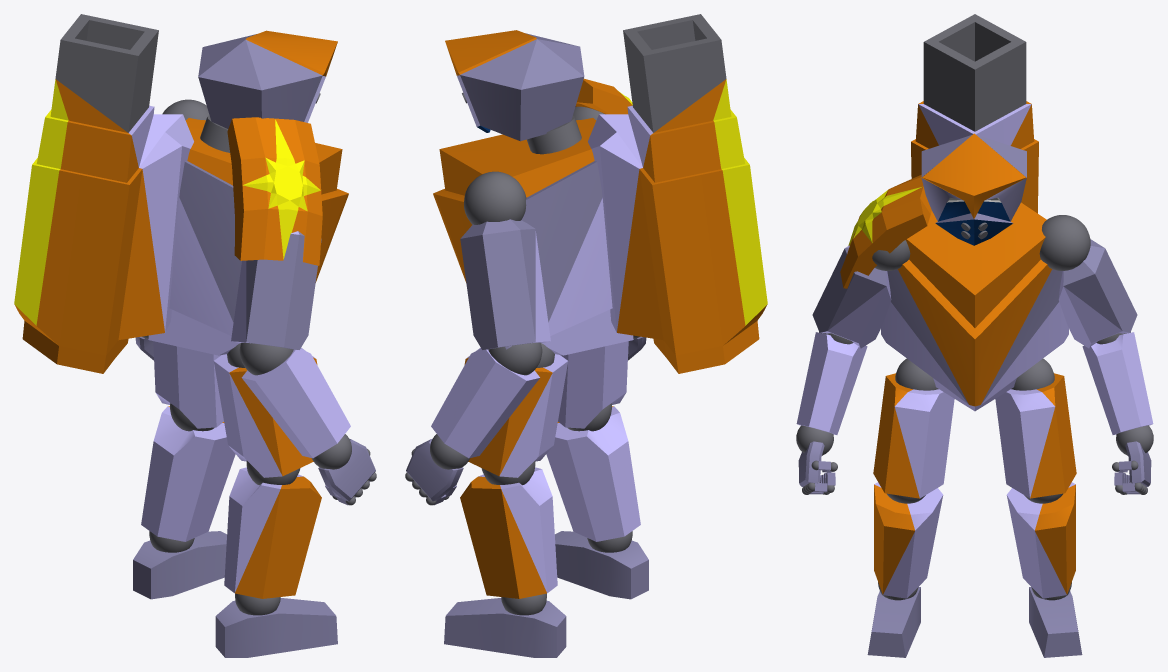
File: lobber.fbx
3 renders of one model, left to right at view 1: azimuth 30°, elevation 25°; view 2: azimuth 150°, elevation 25°; view 3: azimuth 270°, elevation 25°, orthographic. The views are drawn at different scales.
Visible parts, largest first — view 1: pCube18; view 2: pCube18; view 3: pCube18.
Boxes of the visible parts, x1=… form: pCube18: x1=14, y1=14, x2=376, y2=657; pCube18: x1=405, y1=14, x2=767, y2=657; pCube18: x1=796, y1=14, x2=1153, y2=657.
Size of the model in its own units: 6.64 by 11.62 by 6.88.
